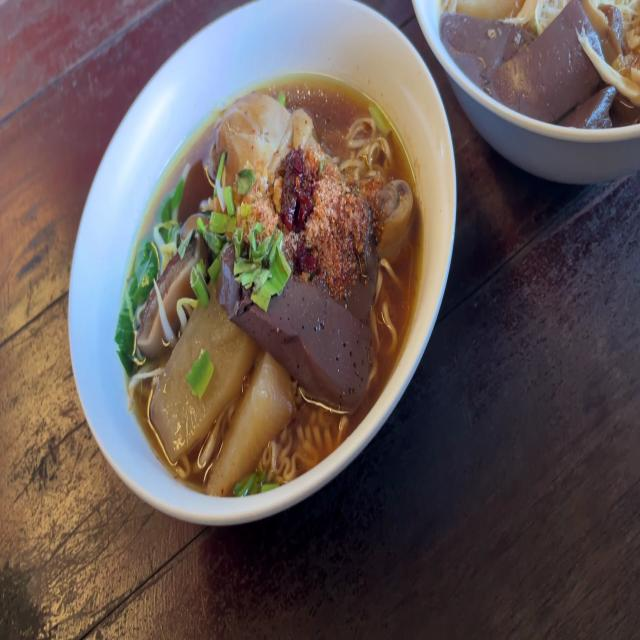noodle: (437, 4, 618, 135), (278, 278, 380, 398)
